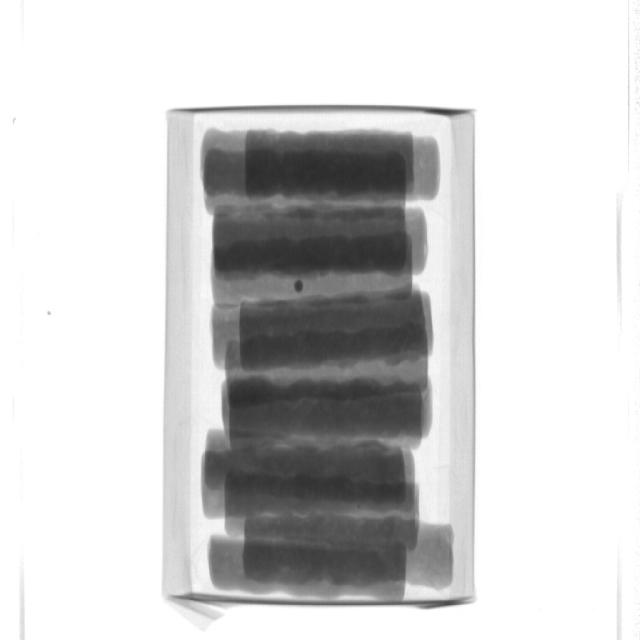ym: (293, 280, 304, 294)
